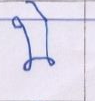o_matra: (38, 4, 54, 65)
